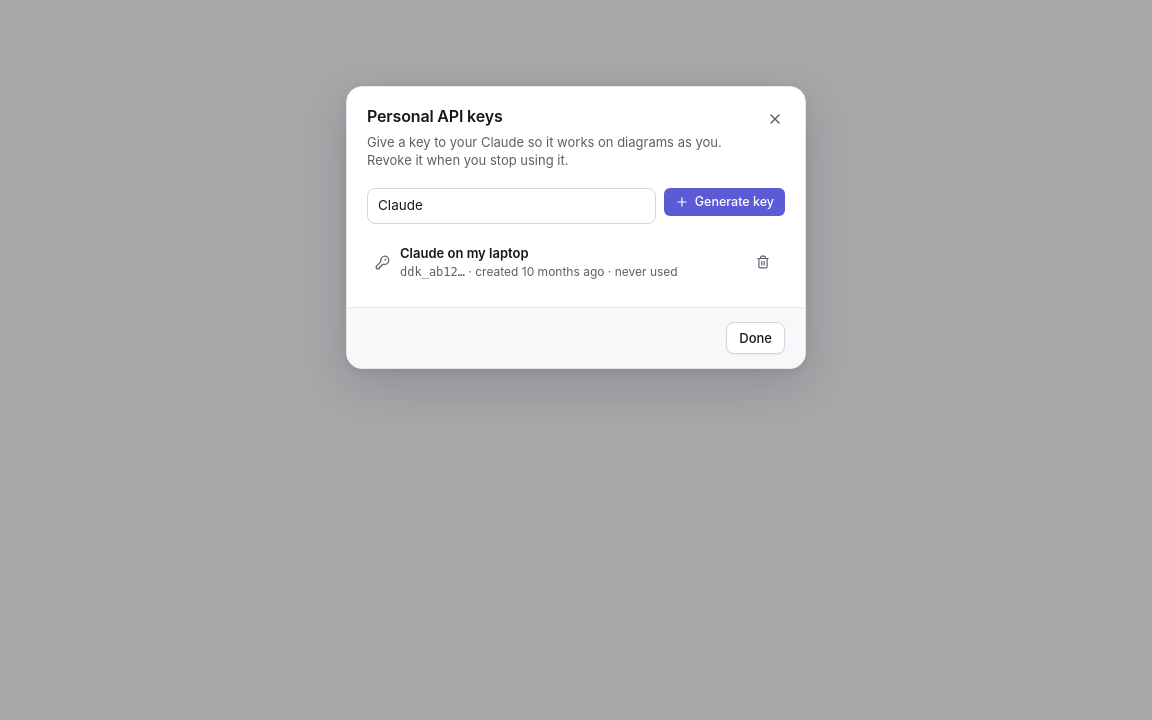
Test case: ApiKeysDialog › should revoke a key after confirmation
The width and height of the screenshot is (1152, 720).
Click the button named "Revoke Claude on my laptop" at (763, 262), box [749,248,777,276]
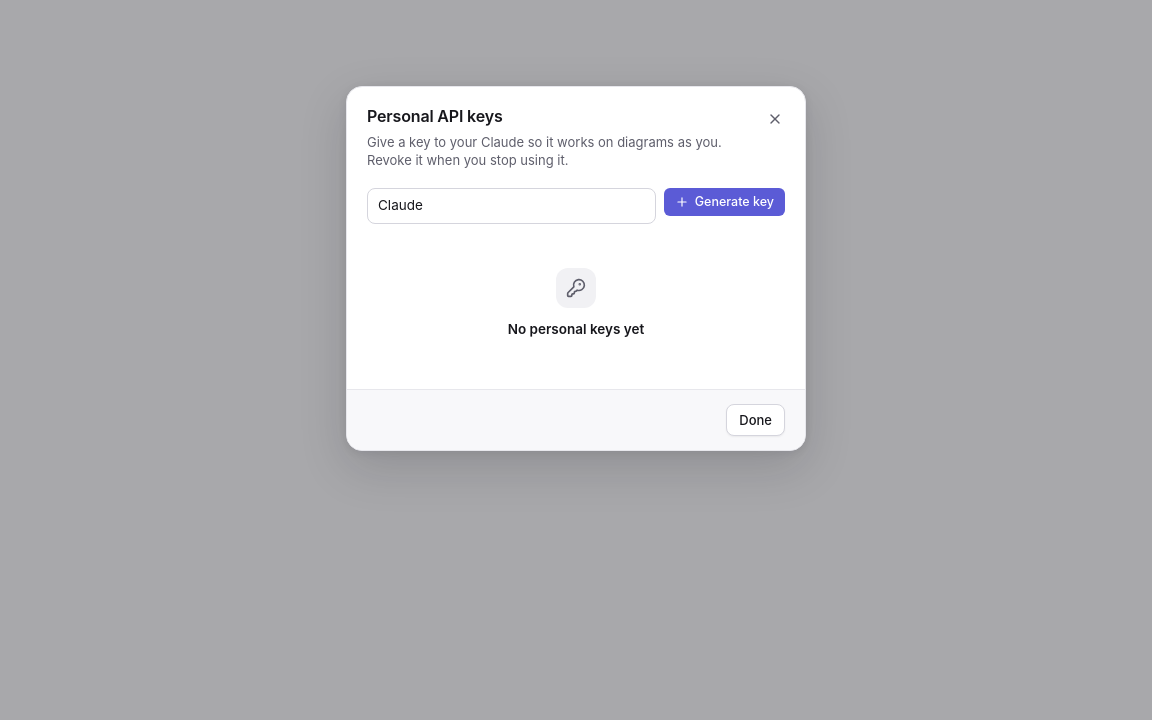
Now the text "No personal keys yet" is shown, box [508,320,644,339]
